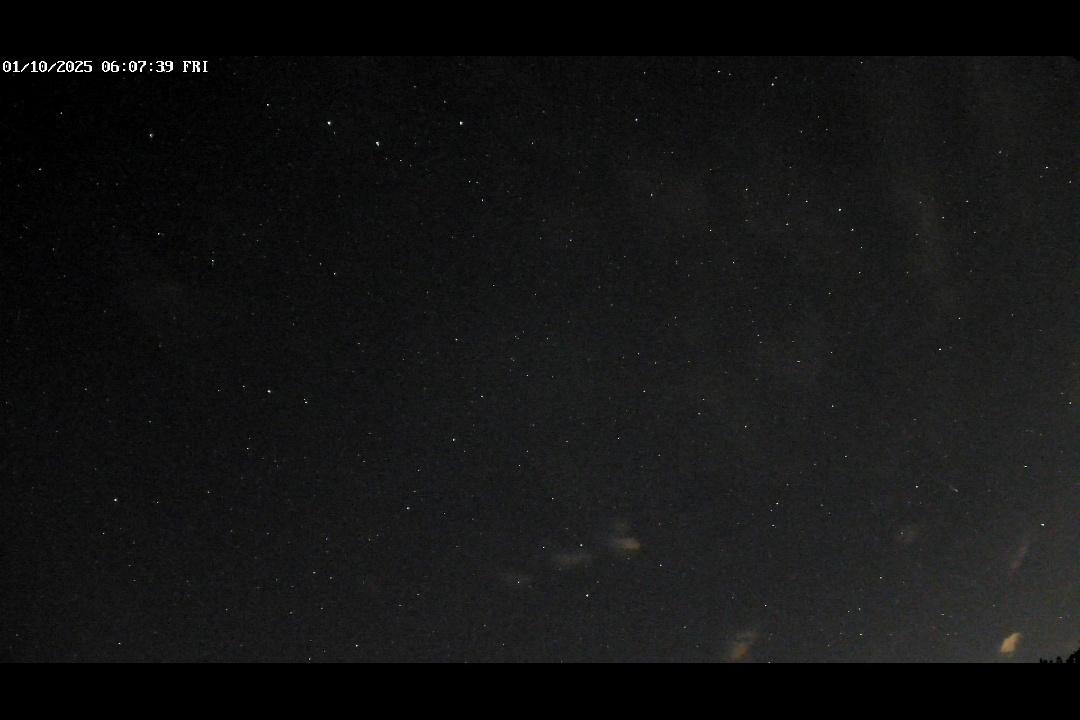Plane: (939, 480, 964, 497)
